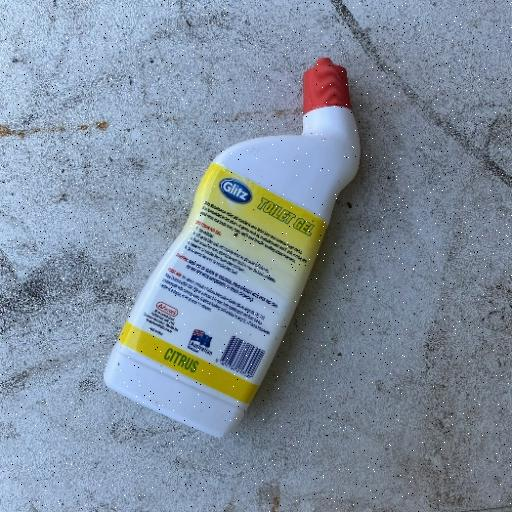Plastic: (100, 56, 362, 440)
